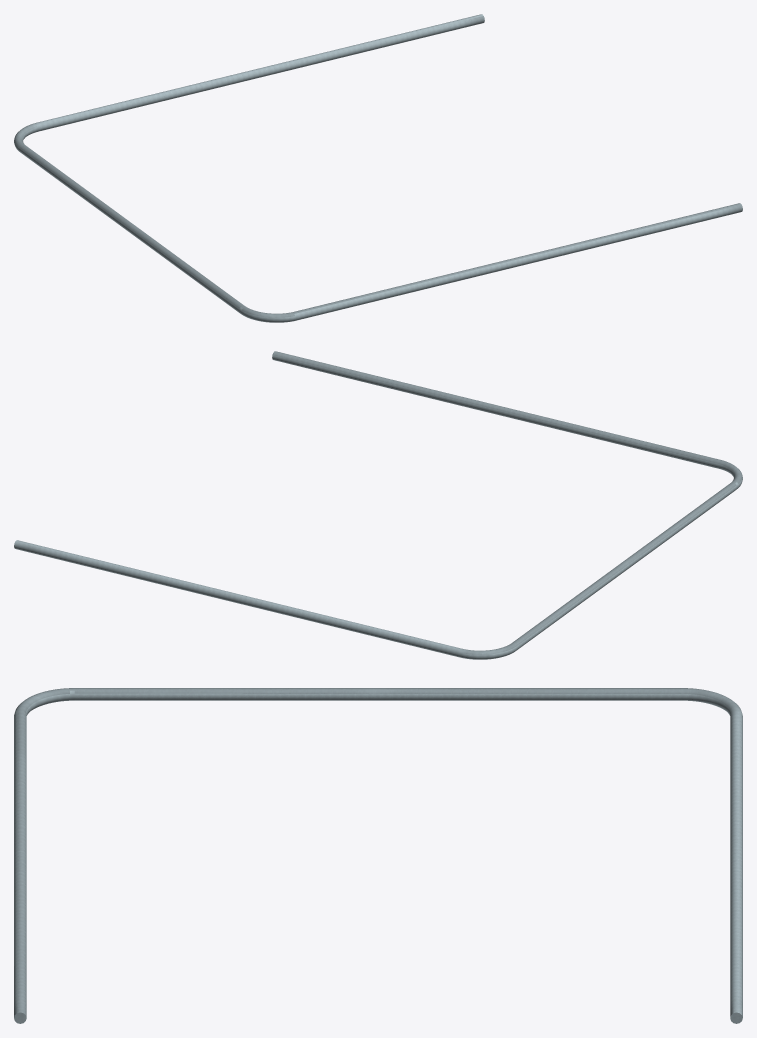
Rendered from 21-rolled-tin-rim-82-1.fbx.
3 renders of one model, top to bottom at view 1: azimuth 30°, elevation 25°; view 2: azimuth 150°, elevation 25°; view 3: azimuth 270°, elevation 25°, orthographic. The views are drawn at different scales.
Visible parts, largest first — view 1: rolled-tin-rim-82-1; view 2: rolled-tin-rim-82-1; view 3: rolled-tin-rim-82-1.
Boxes of the visible parts, bbox=[...] form: rolled-tin-rim-82-1: bbox=[14, 14, 742, 322]; rolled-tin-rim-82-1: bbox=[14, 351, 742, 659]; rolled-tin-rim-82-1: bbox=[14, 688, 742, 1023].
Bounding box in the file's own units: 8520 × 140 × 8039.
1 material, 1 textured.
